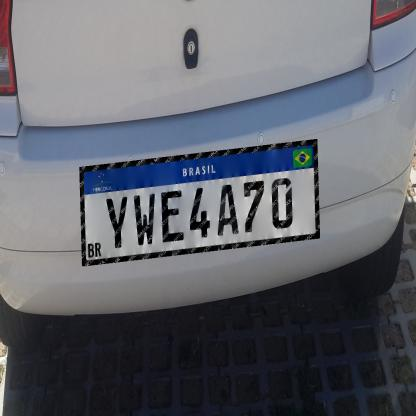PlacaM: (79, 139, 320, 266)
